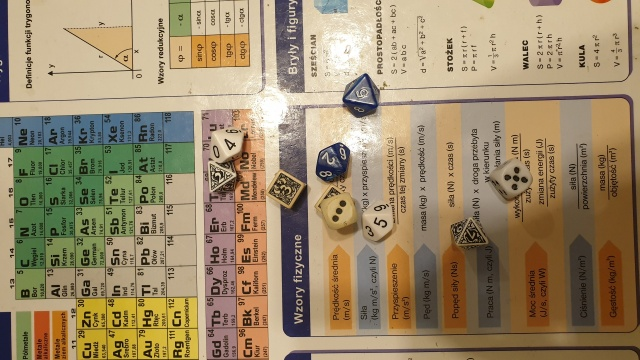d10-2: (310, 140, 353, 184)
d10-4: (202, 127, 250, 163)
d10-5: (340, 70, 381, 119), (358, 198, 396, 245)
d6-3: (322, 194, 357, 229)
d6-5: (489, 157, 535, 204)
d6p-3: (264, 170, 305, 209)
d8p-2: (204, 161, 234, 194)
d8p-7: (449, 216, 492, 253)
